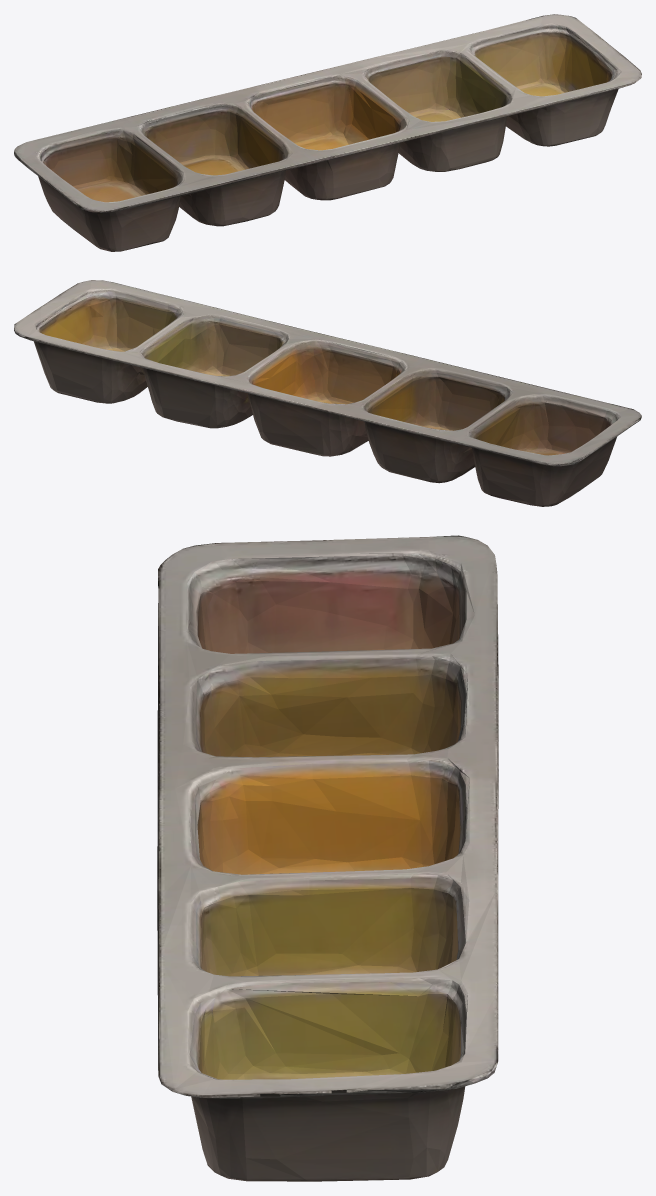
Rendered from serving_tray_5_compartment_2.glb.
3 views of the same model, one above another, from view 1: azimuth 30°, elevation 25°; view 2: azimuth 150°, elevation 25°; view 3: azimuth 270°, elevation 25° (orthographic). The views are drawn at different scales.
Visible parts, largest first — view 1: geometry_0; view 2: geometry_0; view 3: geometry_0.
Boxes of the visible parts, bbox=[...] form: geometry_0: bbox=[14, 14, 641, 251]; geometry_0: bbox=[14, 280, 641, 506]; geometry_0: bbox=[157, 535, 498, 1181].
Size of the model in its own units: 1 by 0.1083 by 0.2626.
Materials: 1 (1 with a texture image).
